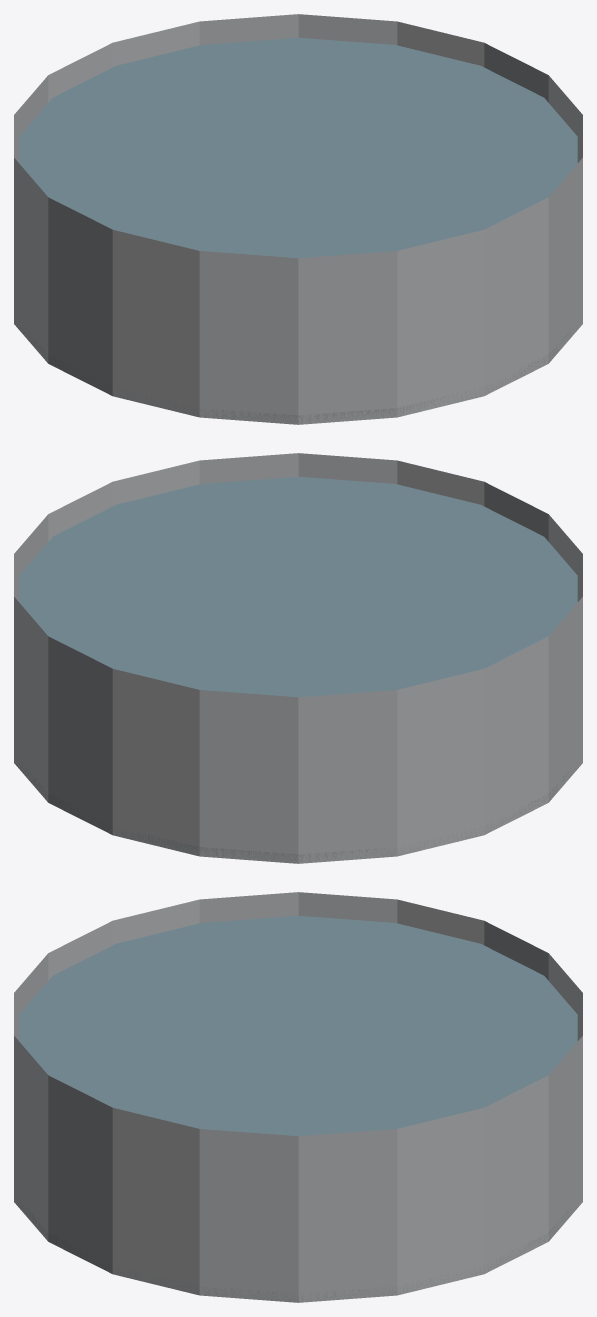
Rendered from water_trough.glb.
The picture shows the model from 3 angles, top to bottom: view 1: azimuth 30°, elevation 25°; view 2: azimuth 150°, elevation 25°; view 3: azimuth 270°, elevation 25°; orthographic projection.
Visible parts, largest first — view 1: water_trough; view 2: water_trough; view 3: water_trough.
Part boxes in pixels (x1,y1,x2,y2): water_trough: [14, 14, 582, 424]; water_trough: [14, 453, 582, 863]; water_trough: [14, 892, 582, 1302].
Bounding box in the file's own units: 2.2 × 0.7 × 2.17.
